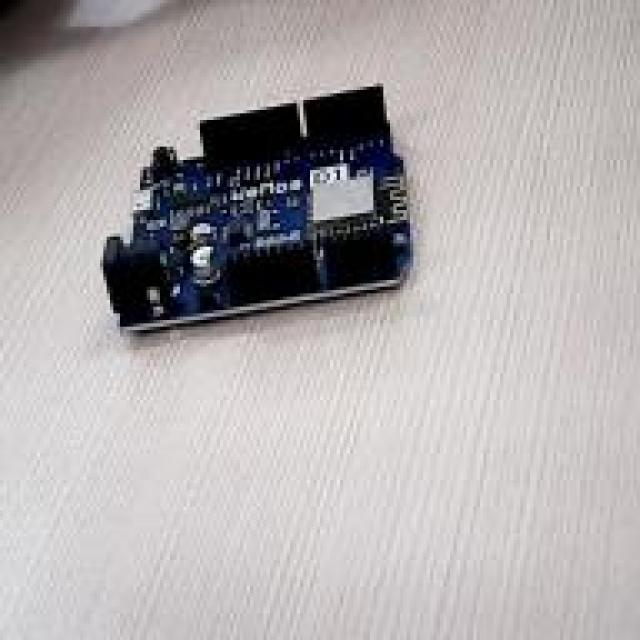Wemos: (101, 88, 411, 331)
